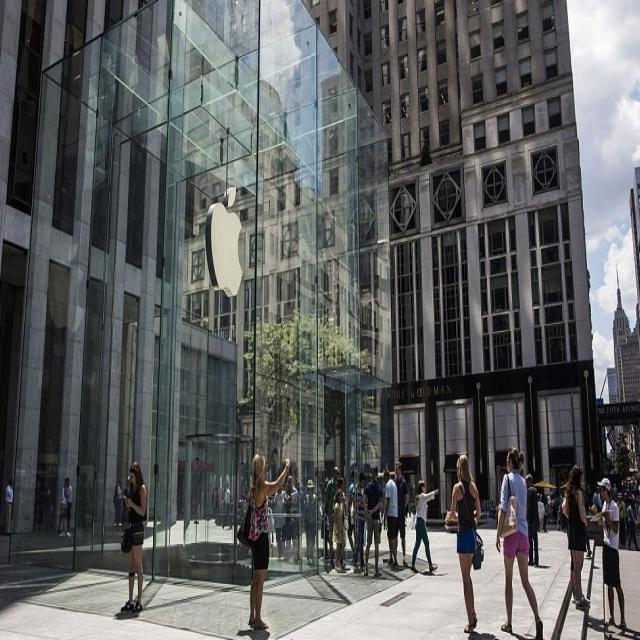body: (494, 447, 544, 639), (248, 453, 290, 630), (450, 453, 484, 635), (590, 476, 628, 636), (120, 461, 148, 613), (564, 463, 592, 604), (564, 468, 591, 612), (77, 461, 126, 533), (410, 479, 440, 575), (362, 464, 382, 578), (304, 478, 324, 567), (324, 464, 340, 570), (393, 461, 409, 567), (382, 467, 398, 569), (351, 471, 366, 571), (283, 474, 299, 564), (525, 473, 539, 567), (538, 480, 562, 532), (332, 488, 346, 570), (347, 467, 359, 562), (34, 470, 52, 532), (293, 476, 305, 563), (273, 485, 287, 558), (612, 464, 640, 493), (331, 475, 347, 520), (627, 497, 640, 552), (56, 484, 68, 536), (4, 476, 14, 537), (63, 475, 73, 536), (220, 480, 232, 530), (616, 491, 626, 546), (265, 500, 273, 549), (210, 481, 220, 518), (320, 468, 330, 498), (593, 482, 600, 509), (635, 492, 640, 520)
